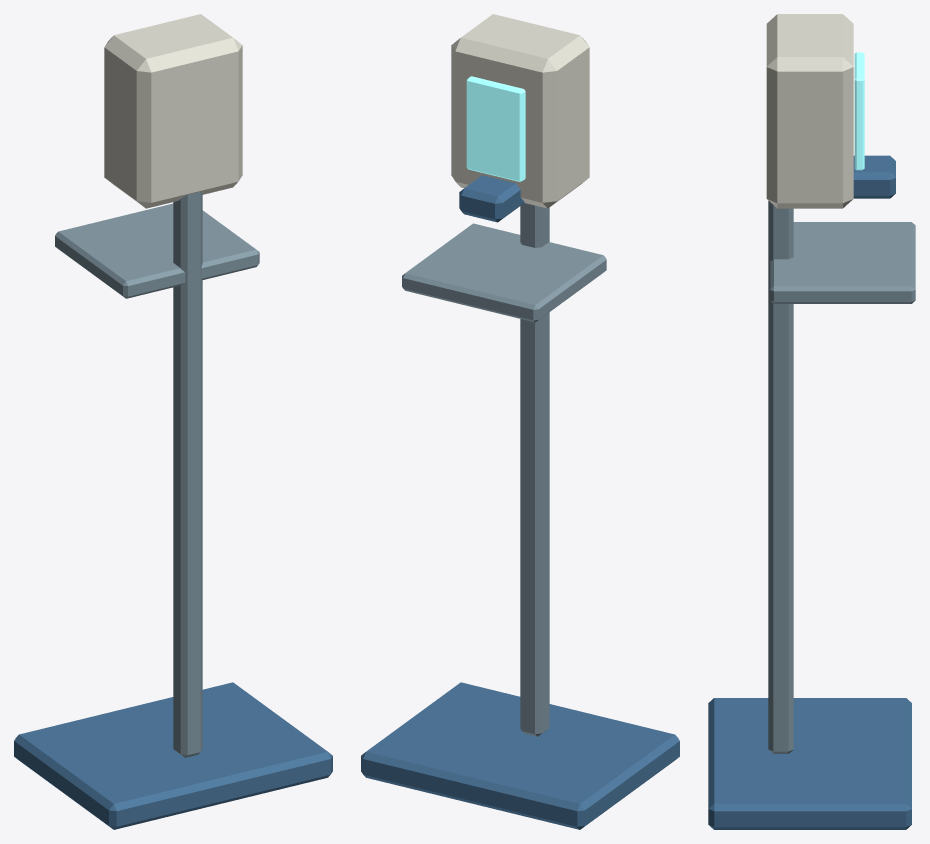
Rendered from disinfectant_pump_stand.glb.
3 renders of one model, left to right at view 1: azimuth 30°, elevation 25°; view 2: azimuth 150°, elevation 25°; view 3: azimuth 270°, elevation 25°, orthographic.
Parts seen in each view (by area): view 1: stand_base, dispenser_body, stand_post, drip_tray; view 2: stand_base, dispenser_body, stand_post, drip_tray, bottle_fill_window, dispenser_nozzle; view 3: stand_base, dispenser_body, stand_post, drip_tray, dispenser_nozzle, bottle_fill_window.
Part boxes in pixels (left/top/right/bottom): stand_base: left=14, top=682, right=332, bottom=829; dispenser_body: left=104, top=14, right=242, bottom=208; stand_post: left=173, top=191, right=202, bottom=757; drip_tray: left=55, top=203, right=259, bottom=298; stand_base: left=361, top=682, right=679, bottom=829; dispenser_body: left=451, top=14, right=589, bottom=208; stand_post: left=520, top=203, right=549, bottom=736; drip_tray: left=402, top=223, right=606, bottom=322; bottle_fill_window: left=466, top=76, right=525, bottom=182; dispenser_nozzle: left=459, top=175, right=524, bottom=222; stand_base: left=708, top=698, right=911, bottom=829; dispenser_body: left=766, top=14, right=853, bottom=208; stand_post: left=768, top=201, right=793, bottom=753; drip_tray: left=770, top=222, right=915, bottom=303; dispenser_nozzle: left=853, top=155, right=895, bottom=198; bottle_fill_window: left=854, top=52, right=864, bottom=170.
Size of the model in its own units: 0.36 by 1.12 by 0.285.
